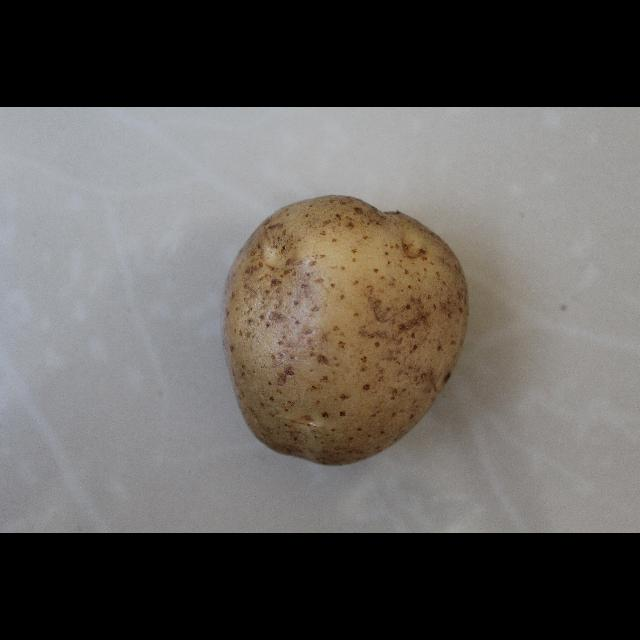Diseased-fungal potato: (215, 190, 465, 466)
